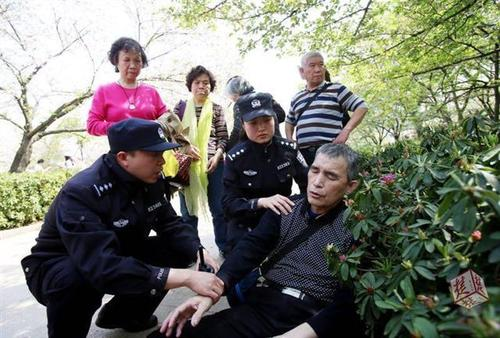fall: (121, 135, 379, 338)
